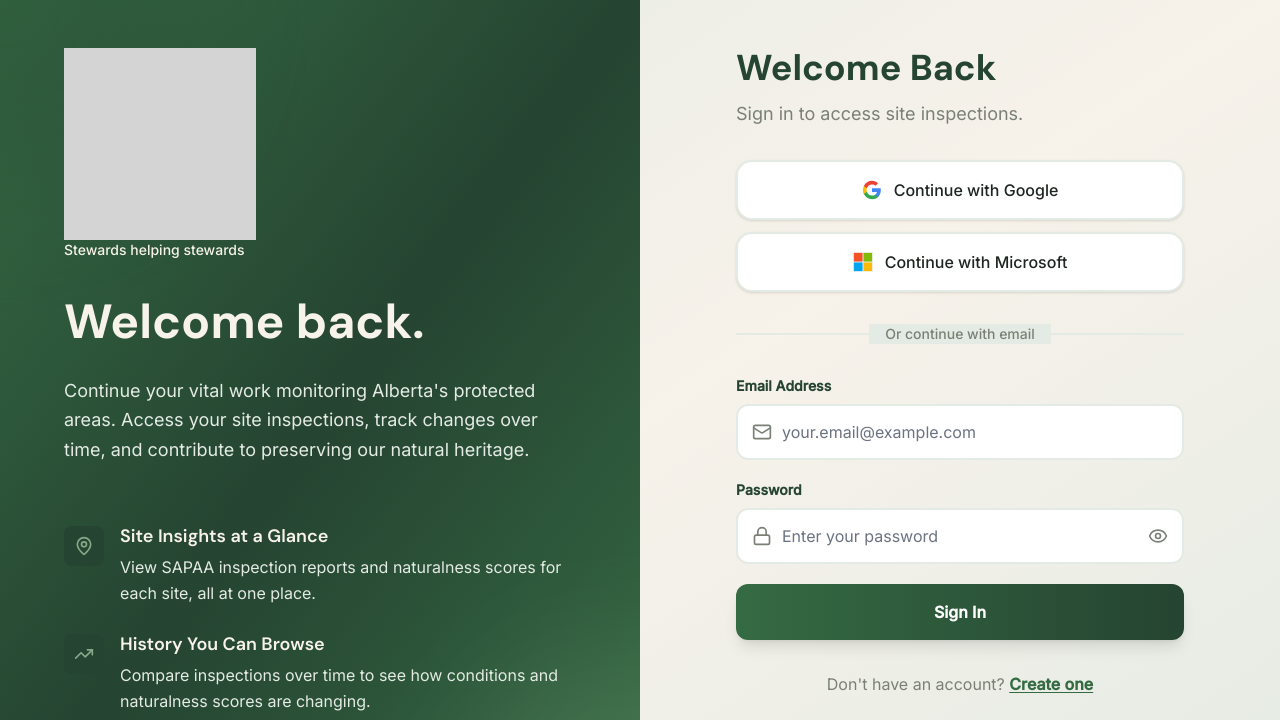
it: LoginPage › handles Google sign-in error
Click the button "Continue with Google".
click(960, 190)  # box [736,160,1184,220]
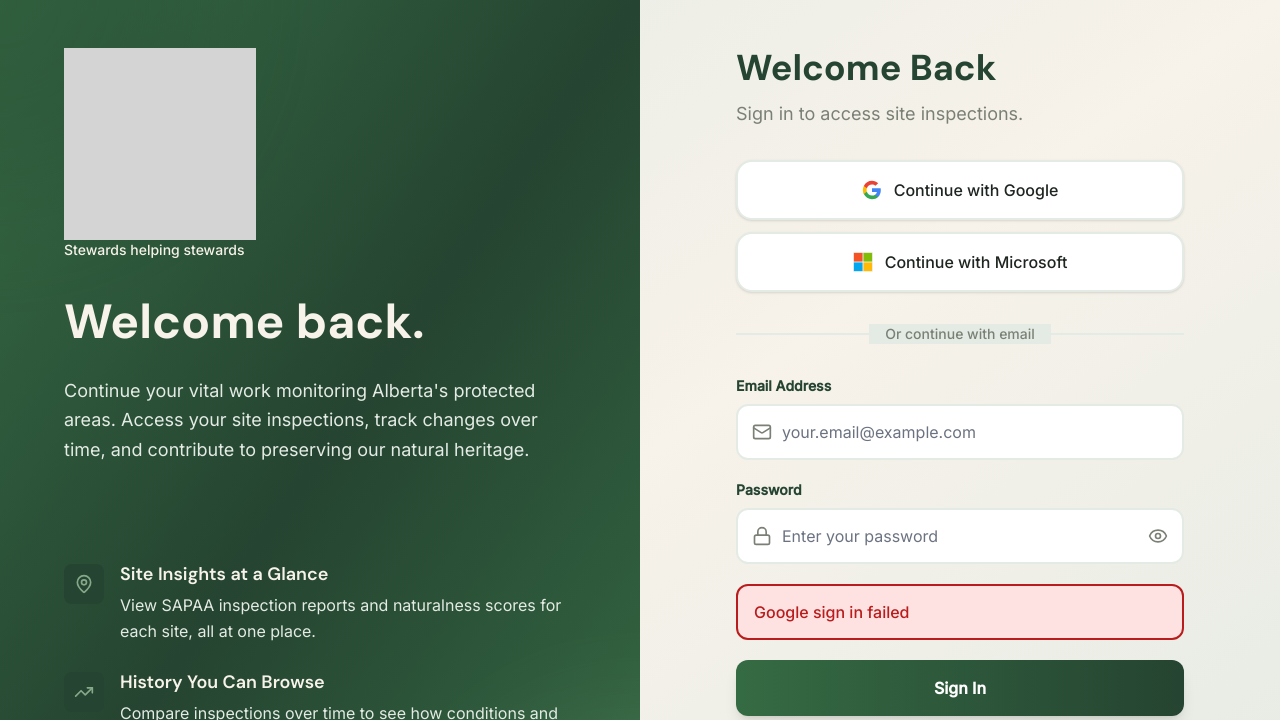
Expected: the text "Google sign in failed" is shown, [736,584,1184,640]
